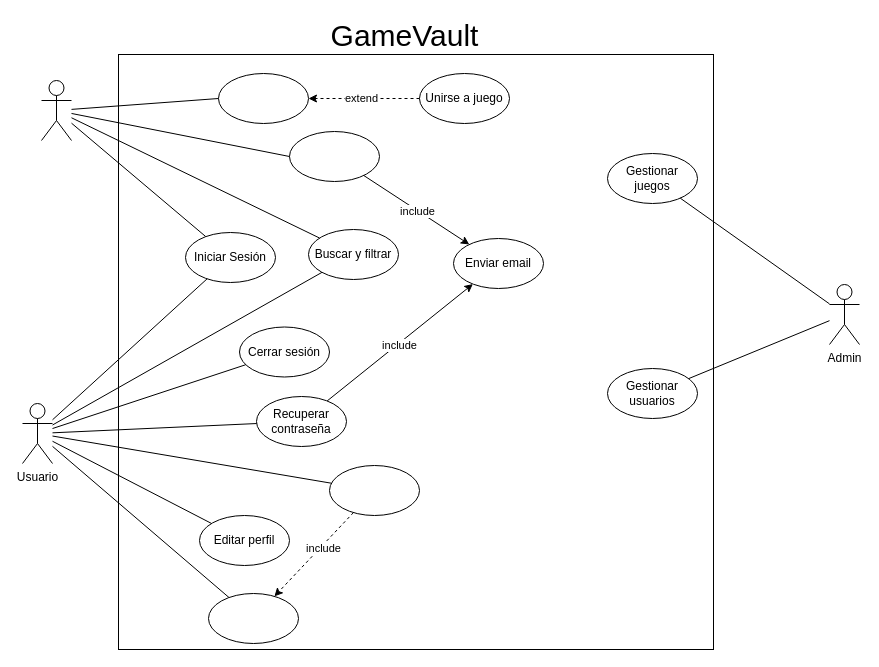
The diagram is 879 pixels wide and 667 high, and some of its shapes have lost their labels. The centre of each missing label's shape, as x and y in pixels:
"Explorar juegos" goes at point (263, 98).
"Gestionar colección" goes at point (253, 618).
"Registrarse" goes at point (334, 156).
"Ver estadísticas de juego" goes at point (374, 490).
"Visitante" goes at point (56, 110).
